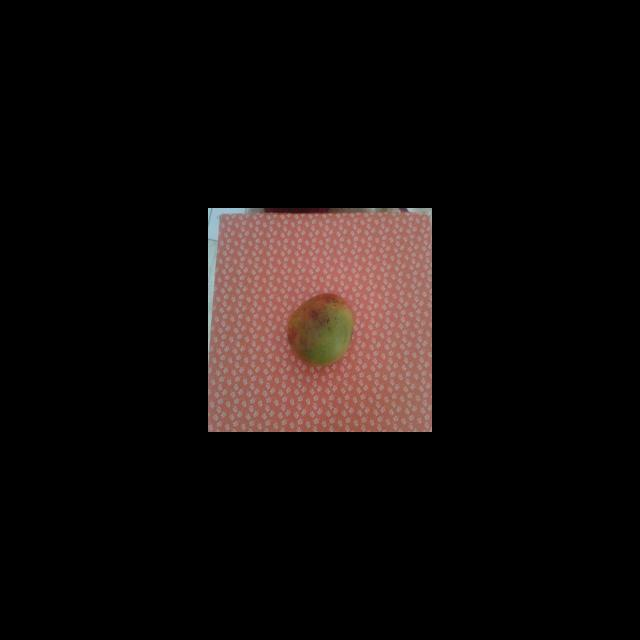mango: (286, 292, 353, 366)
